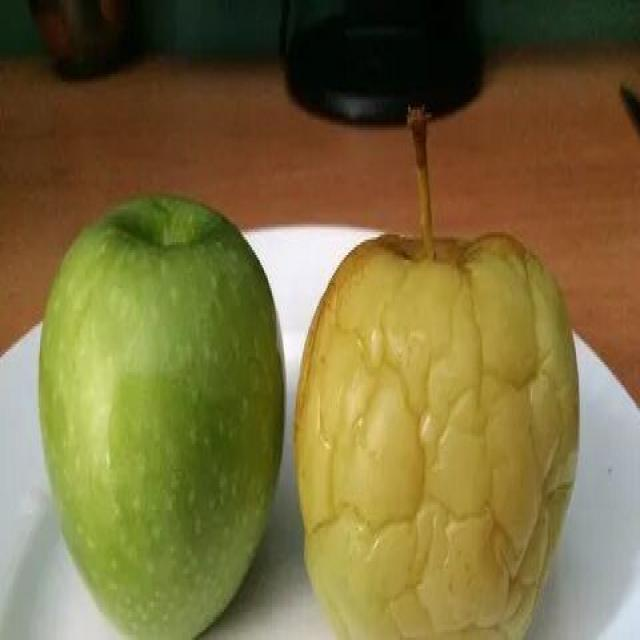fresh_apple: (38, 194, 293, 635)
rotten_apple: (296, 233, 576, 634)
